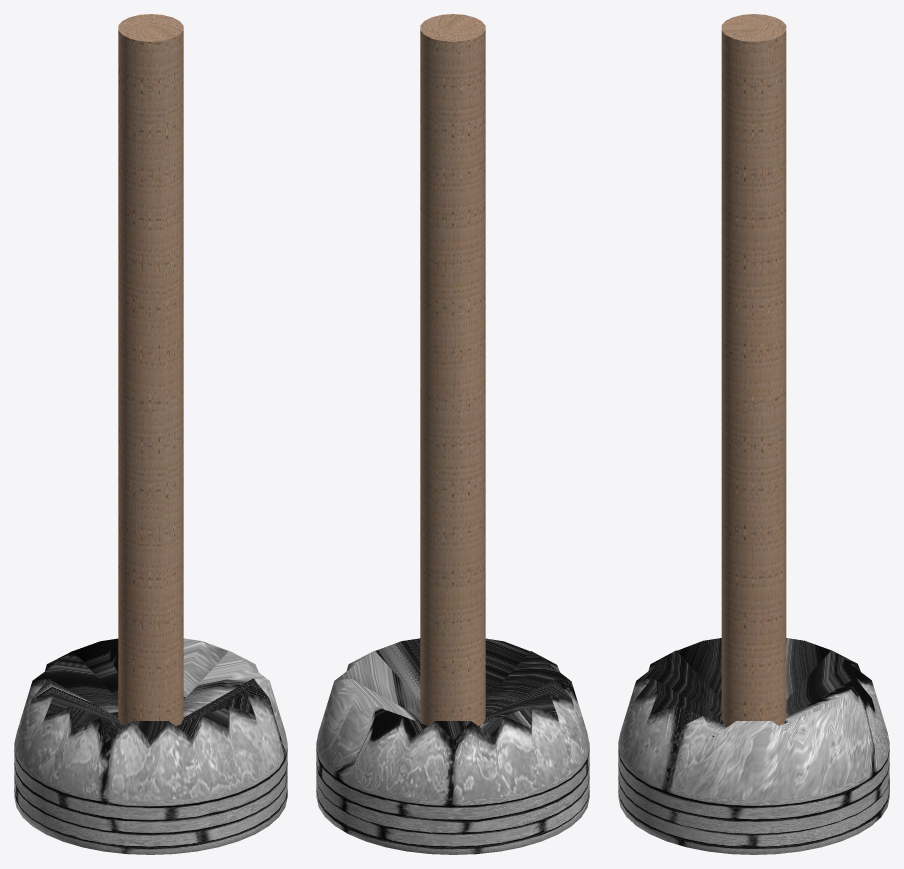
File: GoalPole.fbx
The picture shows the model from 3 angles, left to right: view 1: azimuth 30°, elevation 25°; view 2: azimuth 150°, elevation 25°; view 3: azimuth 270°, elevation 25°; orthographic projection.
Visible parts, largest first — view 1: Cylinder002, Cylinder001; view 2: Cylinder002, Cylinder001; view 3: Cylinder002, Cylinder001.
Boxes of the visible parts, x1=… form: Cylinder002: x1=118, y1=14, x2=183, y2=725; Cylinder001: x1=14, y1=638, x2=287, y2=854; Cylinder002: x1=420, y1=14, x2=485, y2=725; Cylinder001: x1=316, y1=638, x2=589, y2=854; Cylinder002: x1=721, y1=14, x2=786, y2=725; Cylinder001: x1=618, y1=638, x2=889, y2=854.
Size of the model in its own units: 20.72 by 64.88 by 20.56.
Materials: 2 (2 with a texture image).
